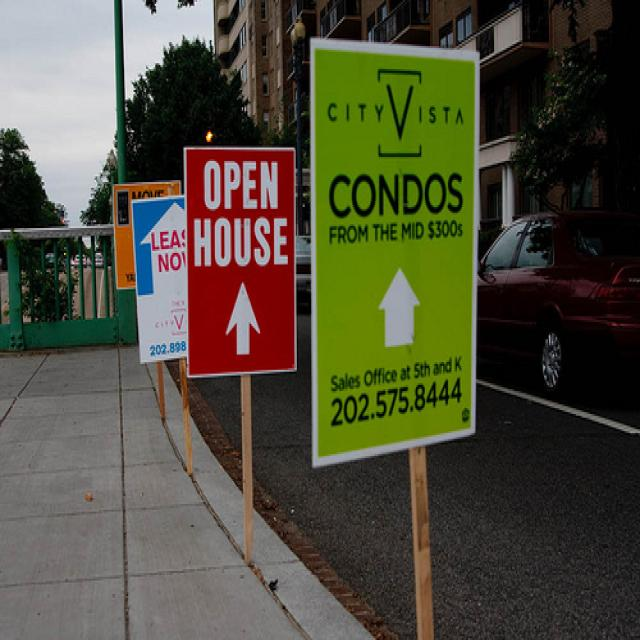Vehicle: (474, 211, 640, 400), (296, 236, 312, 292), (74, 254, 86, 270), (94, 251, 104, 269)
